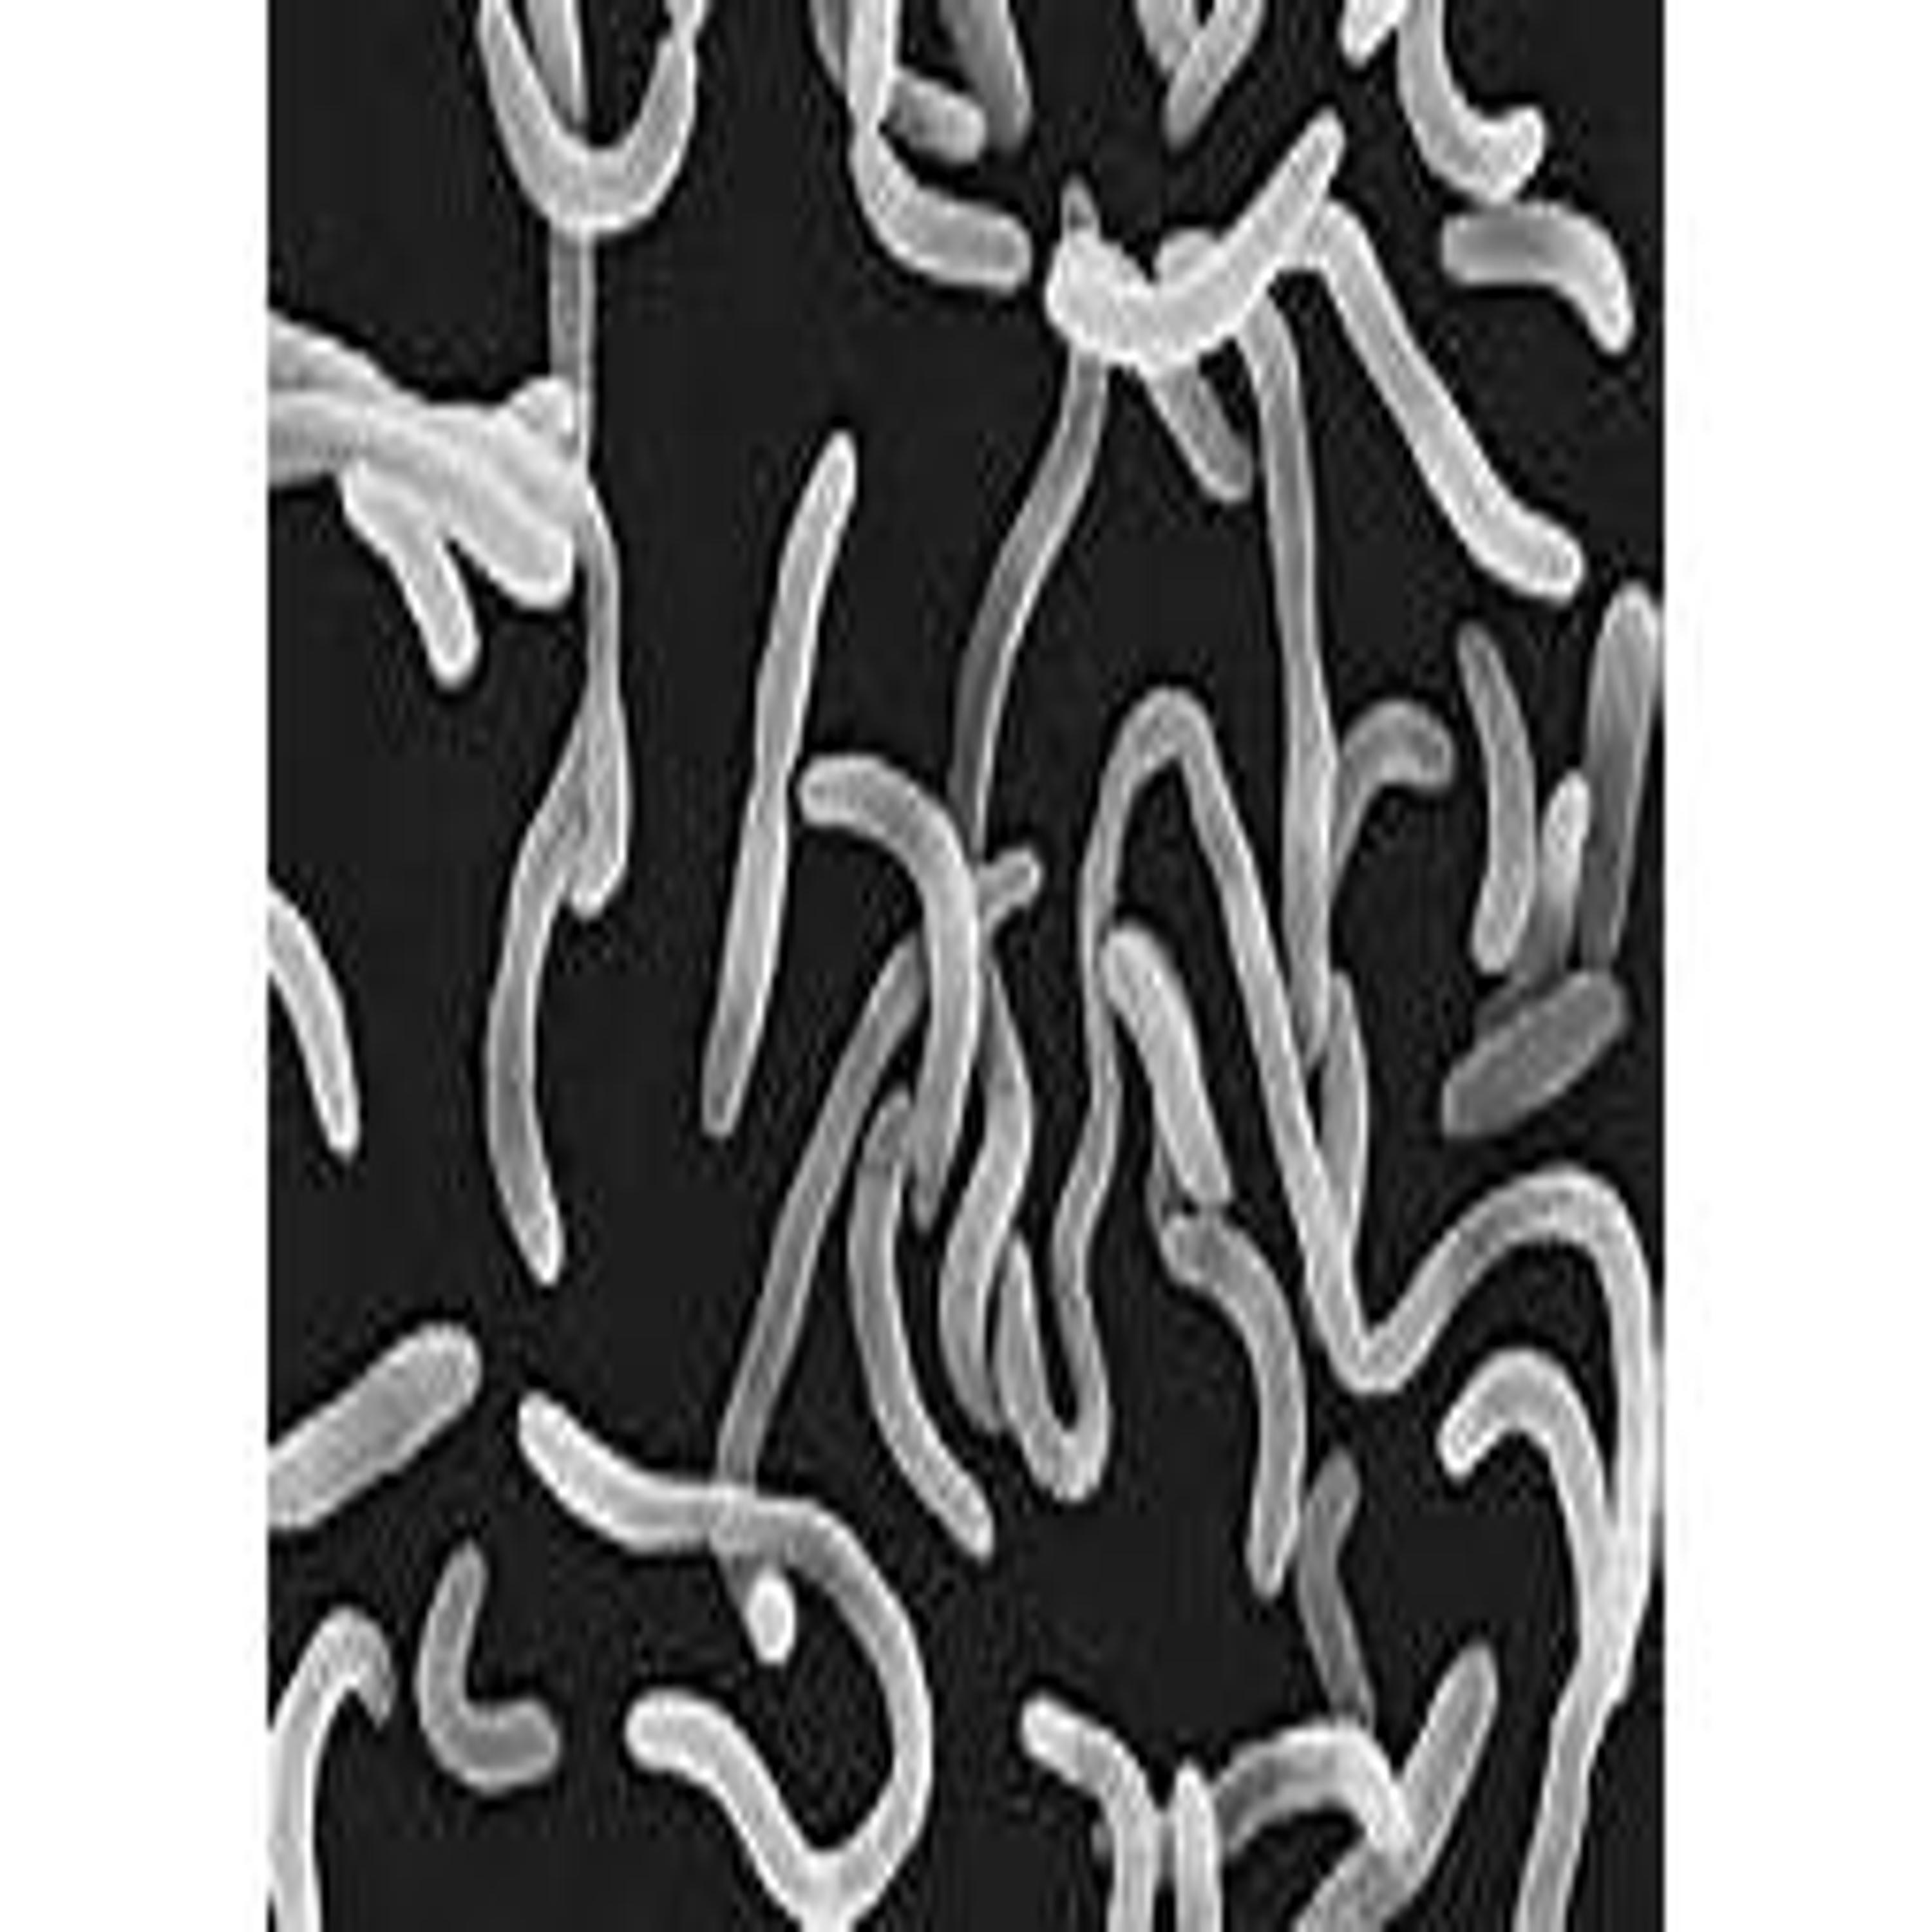Vibrio_cholerae5: (697, 428, 860, 1143), (483, 667, 609, 1288)
